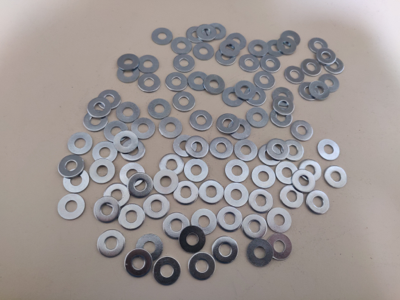circle: (123, 248, 154, 279), (152, 256, 183, 287), (135, 233, 166, 263), (210, 235, 240, 266), (214, 205, 244, 236), (264, 206, 294, 237), (187, 252, 217, 282), (189, 207, 219, 237), (241, 212, 271, 242), (245, 238, 275, 268), (263, 233, 293, 263), (56, 194, 88, 221), (93, 197, 122, 225), (155, 114, 184, 142), (171, 179, 200, 207), (181, 158, 210, 186), (221, 181, 250, 209), (247, 187, 276, 215), (278, 183, 307, 211), (223, 158, 251, 187), (274, 160, 303, 188), (294, 159, 323, 187), (182, 133, 211, 161), (118, 203, 146, 231), (97, 230, 125, 258), (143, 192, 171, 220), (152, 169, 180, 197), (157, 152, 185, 180), (163, 212, 191, 240), (178, 226, 206, 254), (197, 179, 225, 207), (249, 164, 277, 192), (290, 168, 318, 196), (171, 132, 199, 160), (207, 134, 235, 162), (119, 162, 147, 188), (64, 168, 91, 194), (89, 159, 116, 185), (91, 139, 118, 165), (82, 108, 109, 134), (95, 88, 122, 114), (114, 101, 141, 127), (127, 173, 154, 199), (89, 158, 116, 184), (104, 182, 131, 208), (170, 89, 197, 115), (188, 108, 215, 134), (289, 118, 316, 144), (112, 130, 140, 155), (119, 137, 147, 162), (102, 120, 130, 145), (305, 190, 333, 215), (232, 138, 260, 163), (323, 165, 349, 191), (316, 137, 342, 163), (280, 138, 306, 164), (58, 154, 85, 179), (66, 131, 93, 156), (85, 96, 112, 121), (130, 116, 157, 141), (146, 98, 173, 123), (213, 111, 240, 136), (225, 116, 252, 141), (243, 106, 270, 131), (267, 105, 294, 130), (269, 95, 296, 120), (268, 86, 295, 111), (296, 79, 323, 104), (305, 78, 332, 103), (314, 72, 341, 97), (265, 137, 291, 162), (259, 143, 284, 169), (165, 71, 189, 95), (138, 72, 162, 96), (116, 61, 140, 85), (192, 41, 216, 65), (225, 31, 249, 55), (322, 53, 346, 76), (203, 73, 227, 96), (186, 69, 210, 92), (116, 51, 139, 75), (137, 53, 160, 77), (150, 25, 174, 48), (172, 52, 196, 75), (170, 35, 194, 58), (194, 20, 218, 43), (204, 18, 227, 42), (217, 37, 241, 60), (185, 23, 208, 46), (214, 46, 237, 69), (283, 64, 308, 85), (278, 28, 303, 49), (263, 36, 288, 57), (259, 54, 284, 75), (315, 47, 339, 68), (307, 35, 332, 55), (300, 57, 325, 77), (247, 38, 272, 58), (244, 87, 269, 107), (222, 87, 247, 107), (276, 36, 300, 56), (253, 70, 277, 90), (234, 80, 258, 100)
